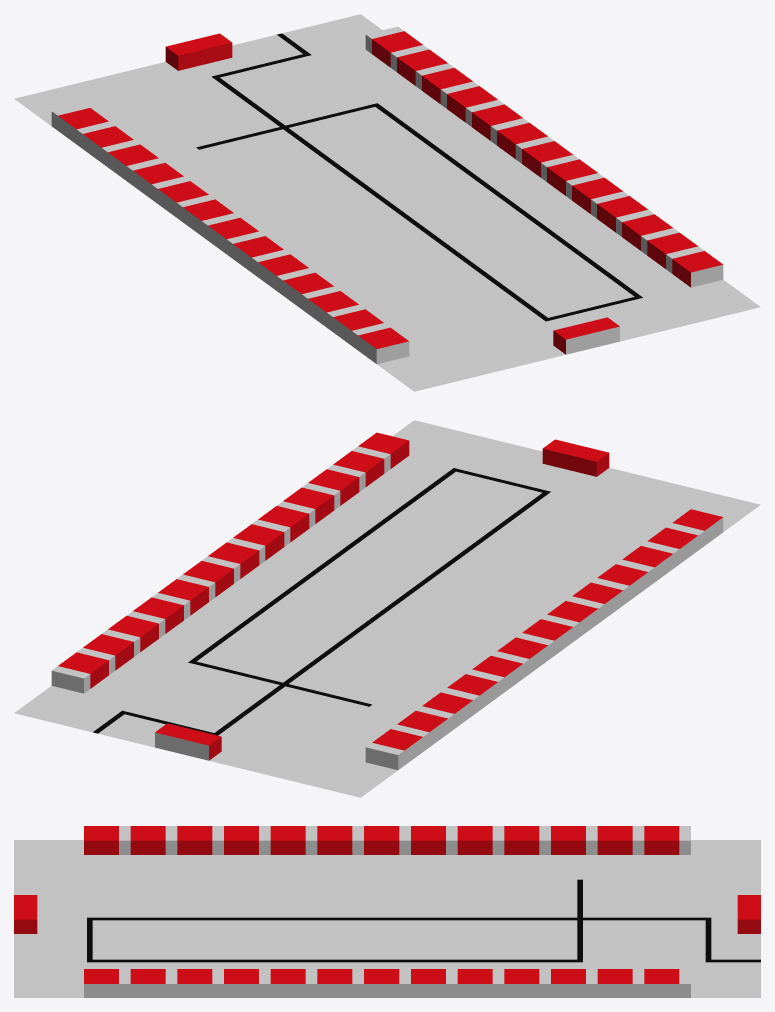
3 renders of one model, top to bottom at view 1: azimuth 30°, elevation 25°; view 2: azimuth 150°, elevation 25°; view 3: azimuth 270°, elevation 25°, orthographic. The views are drawn at different scales.
Visible parts, largest first — view 1: Plane; view 2: Plane; view 3: Plane.
Boxes of the visible parts, box(x1,y1,x2,y2) form: Plane: box(14, 14, 760, 391); Plane: box(14, 420, 760, 797); Plane: box(14, 826, 760, 997).
Size of the model in its own units: 12 by 24 by 0.5.
